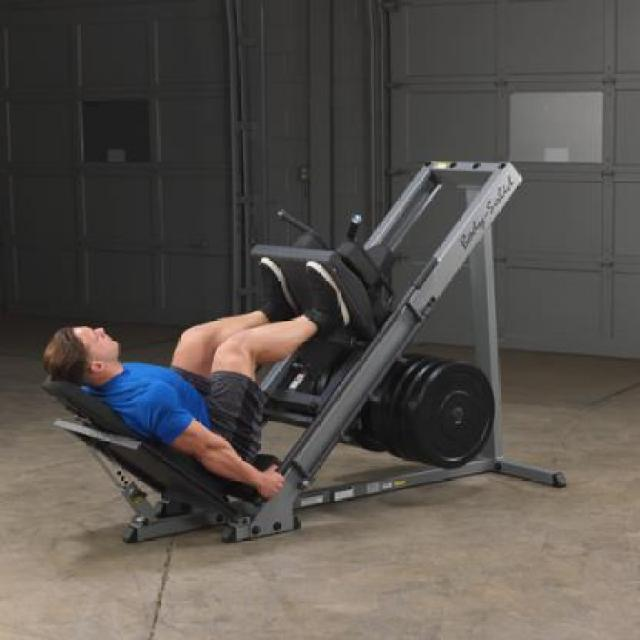leg press: (37, 130, 578, 564)
